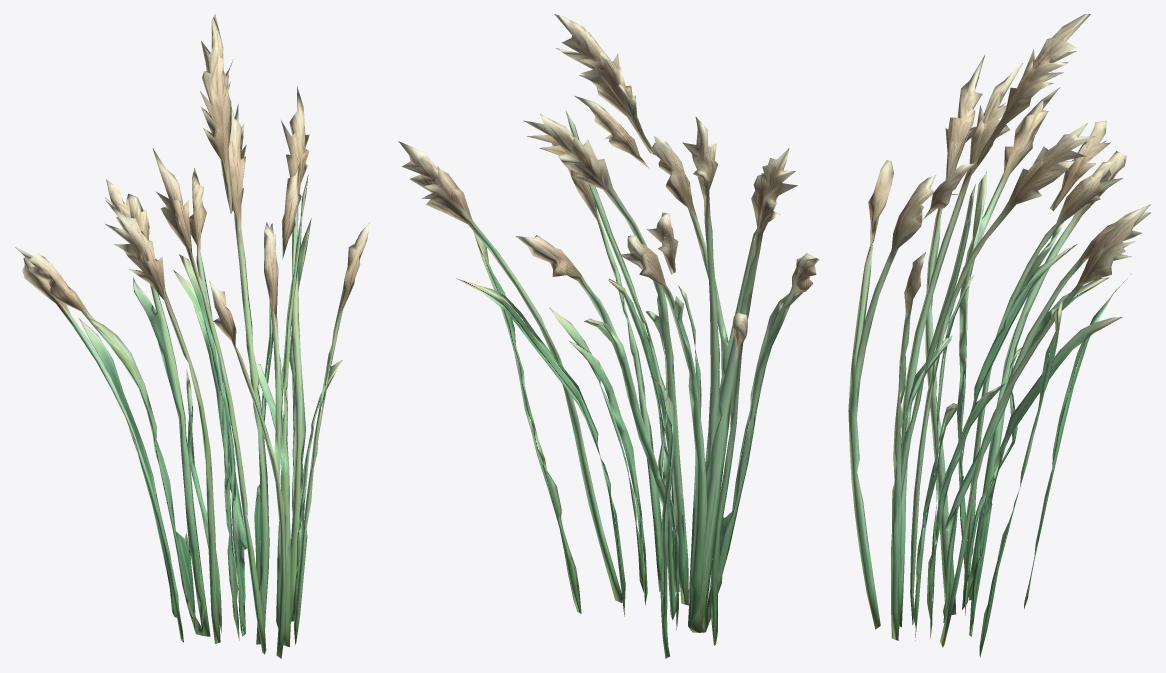
The picture shows the model from 3 angles, left to right: view 1: azimuth 30°, elevation 25°; view 2: azimuth 150°, elevation 25°; view 3: azimuth 270°, elevation 25°; orthographic projection. The views are drawn at different scales.
Visible parts, largest first — view 1: Mesh_0; view 2: Mesh_0; view 3: Mesh_0.
Part boxes in pixels (x1=…): Mesh_0: x1=15, y1=14, x2=369, y2=658; Mesh_0: x1=398, y1=14, x2=819, y2=658; Mesh_0: x1=848, y1=14, x2=1150, y2=657.
Bounding box in the file's own units: 1.14 × 1.9 × 0.8242.
Materials: 1 (1 with a texture image).
